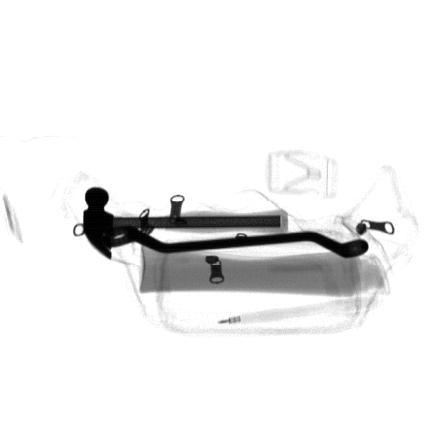Hammer: (83, 187, 289, 261)
Wrench: (102, 226, 371, 257)
